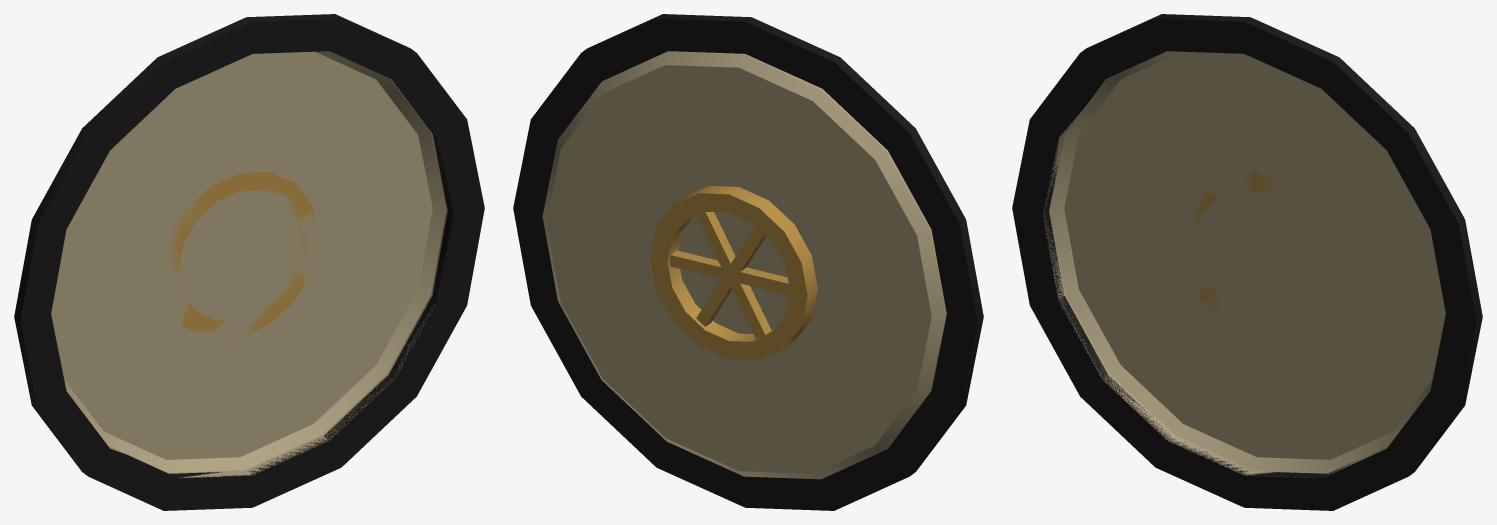
File: pod4_seal.obj
3 renders of one model, left to right at view 1: azimuth 30°, elevation 25°; view 2: azimuth 150°, elevation 25°; view 3: azimuth 330°, elevation 25°, orthographic.
Parts seen in each view (by area): view 1: pod4_seal; view 2: pod4_seal; view 3: pod4_seal.
Boxes of the visible parts, bbox=[...] form: pod4_seal: bbox=[14, 14, 484, 510]; pod4_seal: bbox=[513, 14, 983, 510]; pod4_seal: bbox=[1012, 14, 1482, 510].
Bounding box in the file's own units: 1.06 × 1.06 × 0.09.
